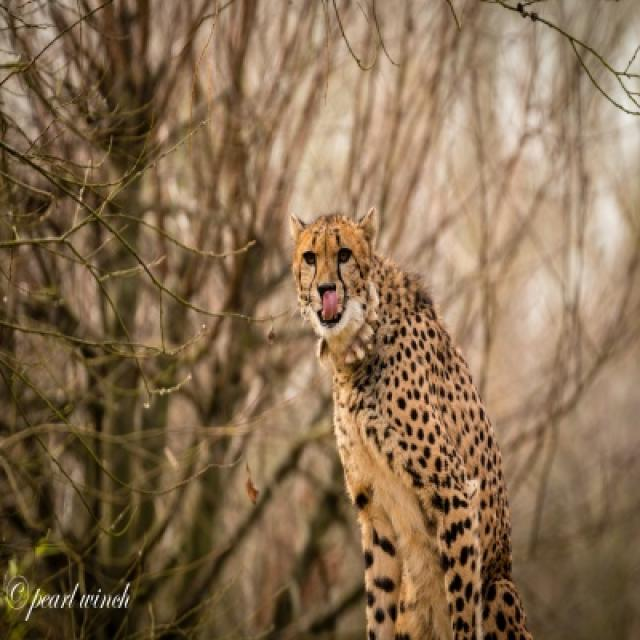Cheetah: (293, 211, 534, 638)
